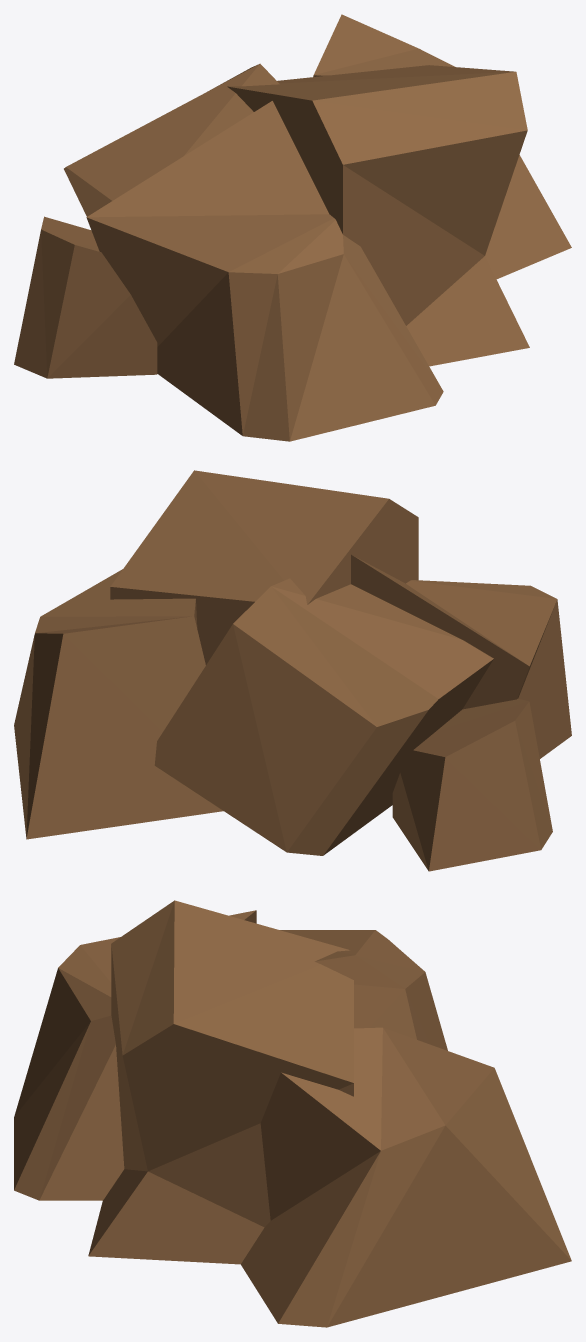
The model's file is Rock_14_Light_Brown.fbx.
3 renders of one model, top to bottom at view 1: azimuth 30°, elevation 25°; view 2: azimuth 150°, elevation 25°; view 3: azimuth 270°, elevation 25°, orthographic. The views are drawn at different scales.
Visible parts, largest first — view 1: Rock_14_Light_Brown; view 2: Rock_14_Light_Brown; view 3: Rock_14_Light_Brown.
Part boxes in pixels (<box>): Rock_14_Light_Brown: <box>14,14,571,441</box>; Rock_14_Light_Brown: <box>14,470,571,871</box>; Rock_14_Light_Brown: <box>14,900,571,1327</box>.
Bounding box in the file's own units: 268 × 122 × 230.
